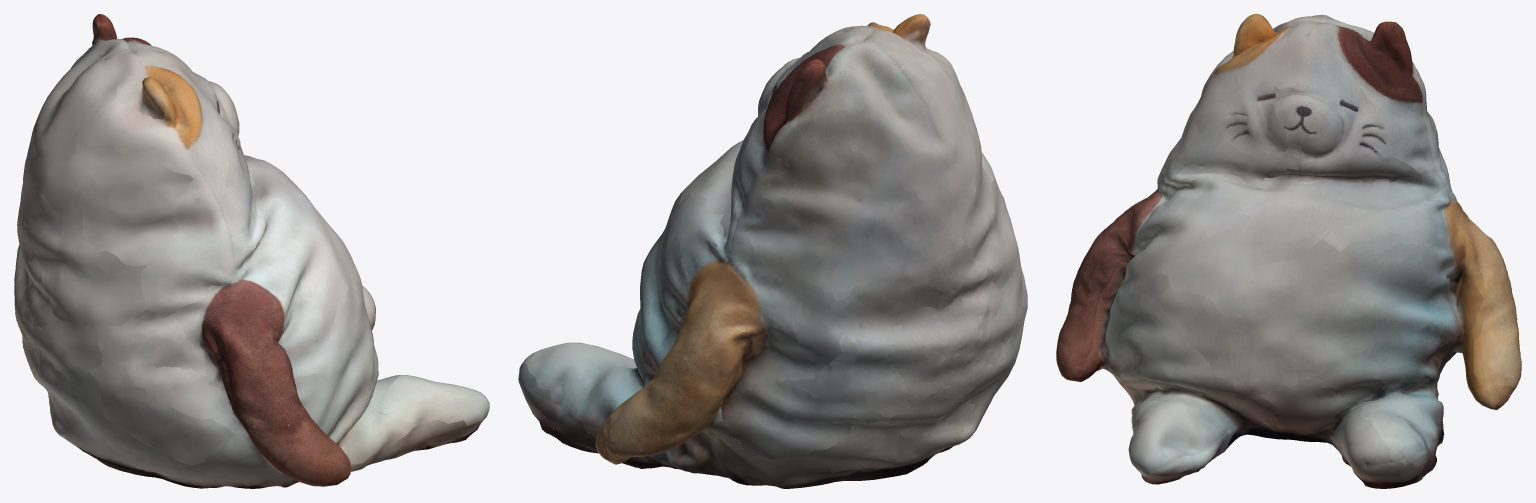
File: whiteCat.glb
The picture shows the model from 3 angles, left to right: view 1: azimuth 30°, elevation 25°; view 2: azimuth 150°, elevation 25°; view 3: azimuth 270°, elevation 25°; orthographic projection. The views are drawn at different scales.
Parts seen in each view (by area): view 1: Mesh_0.002; view 2: Mesh_0.002; view 3: Mesh_0.002.
Boxes of the visible parts, bbox=[...] form: Mesh_0.002: bbox=[14, 14, 489, 488]; Mesh_0.002: bbox=[518, 14, 1027, 488]; Mesh_0.002: bbox=[1056, 14, 1521, 488].
Size of the model in its own units: 1.51 by 1.44 by 1.71.
1 material, 1 textured.
